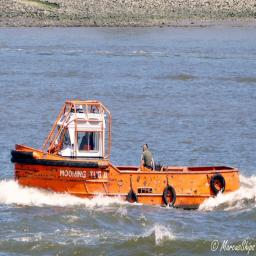tugboat: (11, 98, 244, 218)
